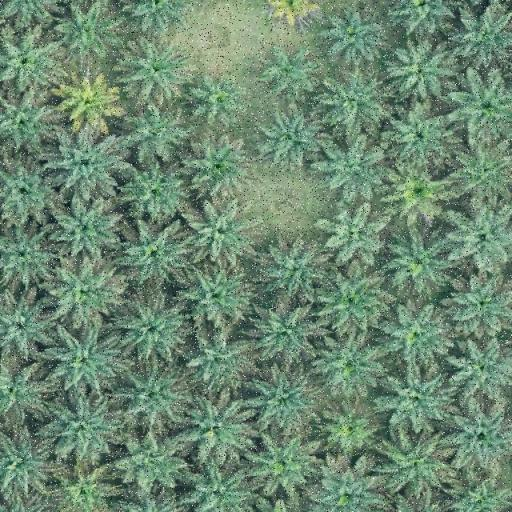Ganoderma: (66, 79, 110, 124), (270, 0, 314, 23)
